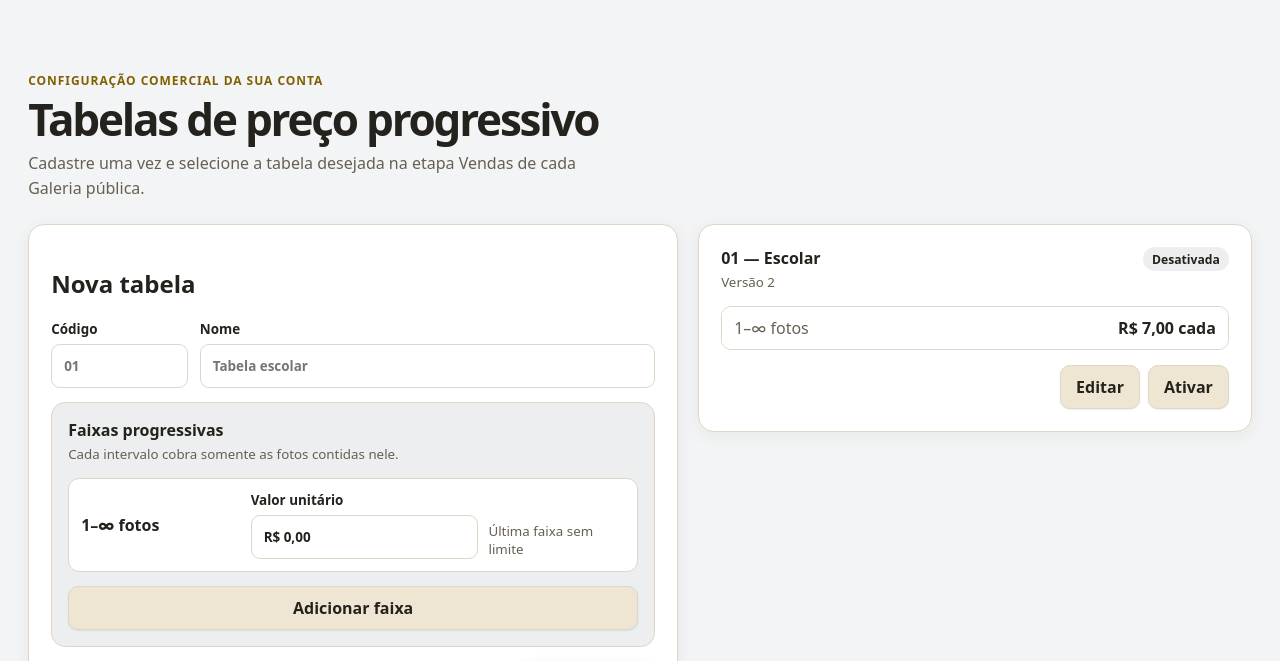
Test case: tabelas globais de preço progressivo › reativa uma tabela desativada e a disponibiliza novamente
Expected: the text "Desativada" is shown, [1143,247,1229,271]
Step 1. Click the button "Ativar" → (1188,387), box [1148,365,1229,409]
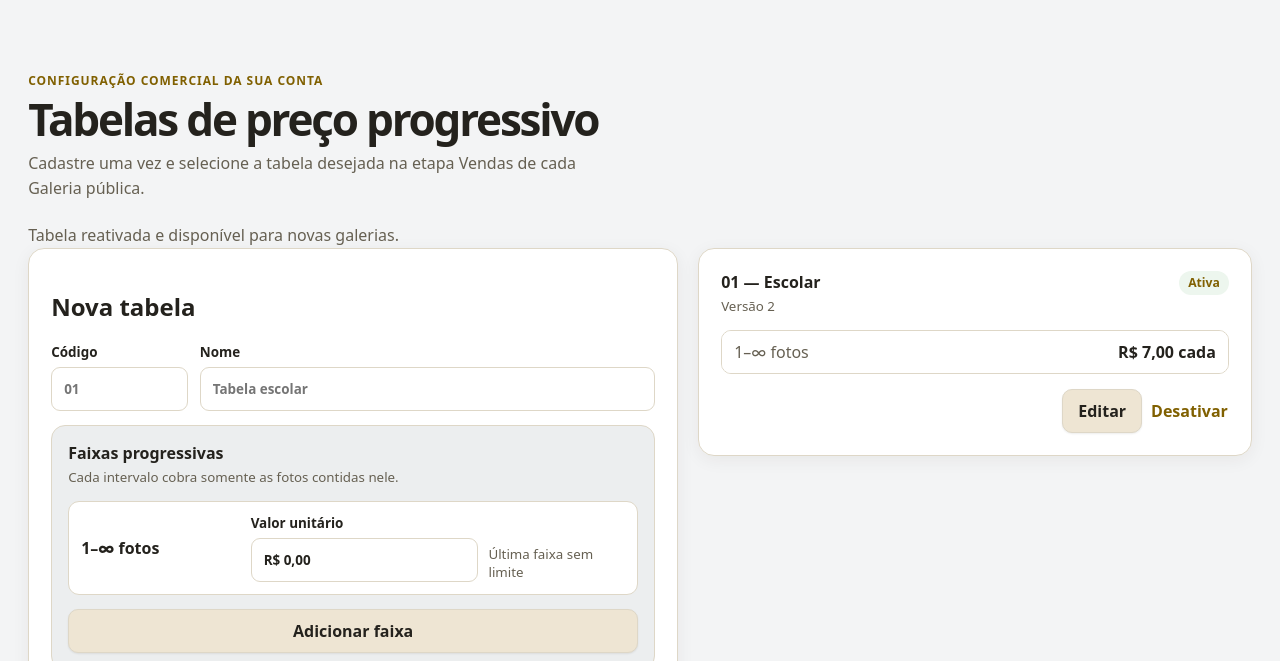
Expected: the text "Ativa" is shown, [1179,270,1229,294]
Expected: the text "Tabela reativada e disponível para novas galerias." is shown, [28,224,399,246]
Expected: the button "Desativar" is shown, [1150,388,1229,432]
